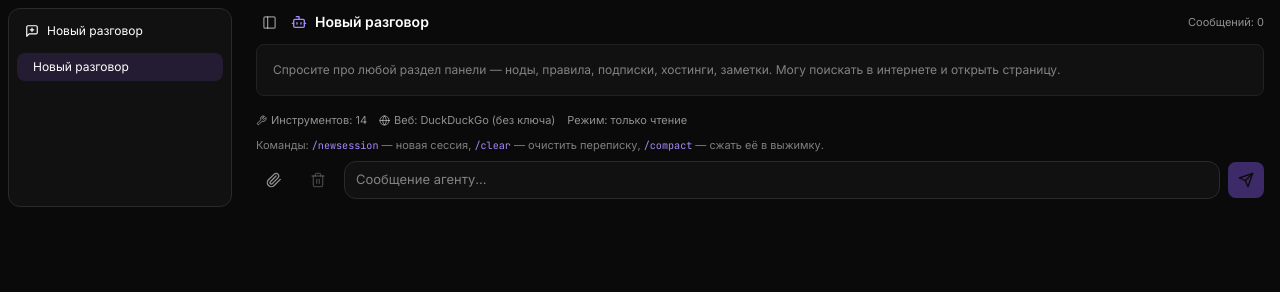
it: AiChat › surfaces a streamed error event in the assistant bubble
Type "hi" into the field with placeholder "Сообщение агенту...".
click(782, 180); type("hi")  # box [344,161,1220,198]
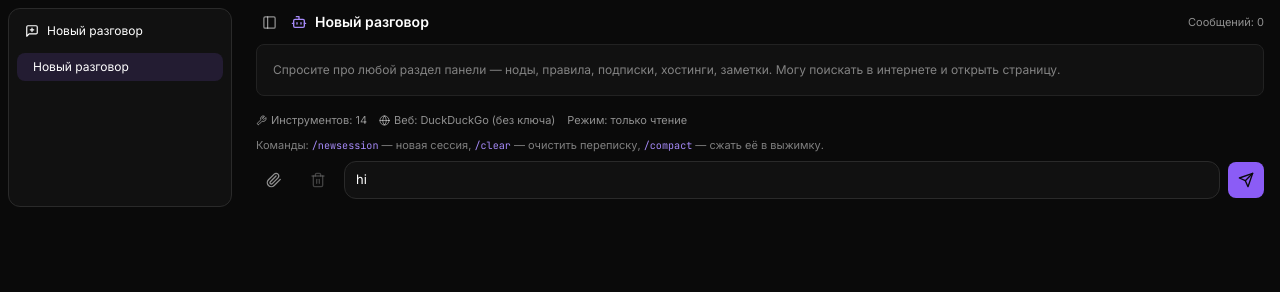
Press Enter in the field with placeholder "Сообщение агенту...", box [344,161,1220,198]
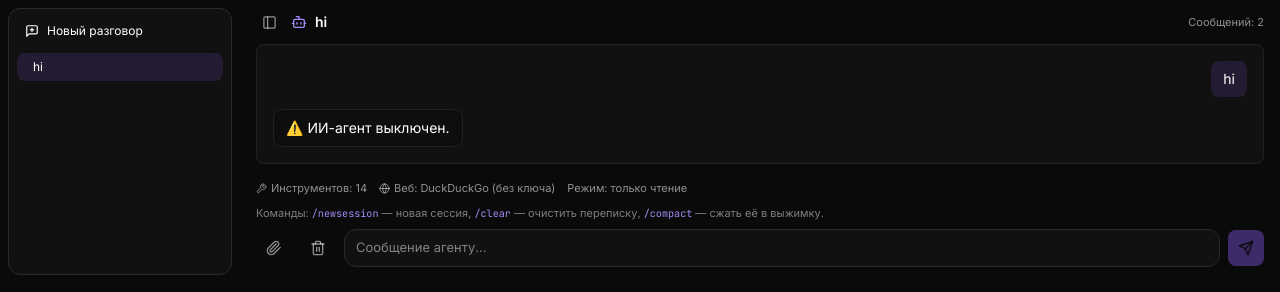
Result: the text "⚠️ ИИ-агент выключен." is shown at [286,118,450,138]
